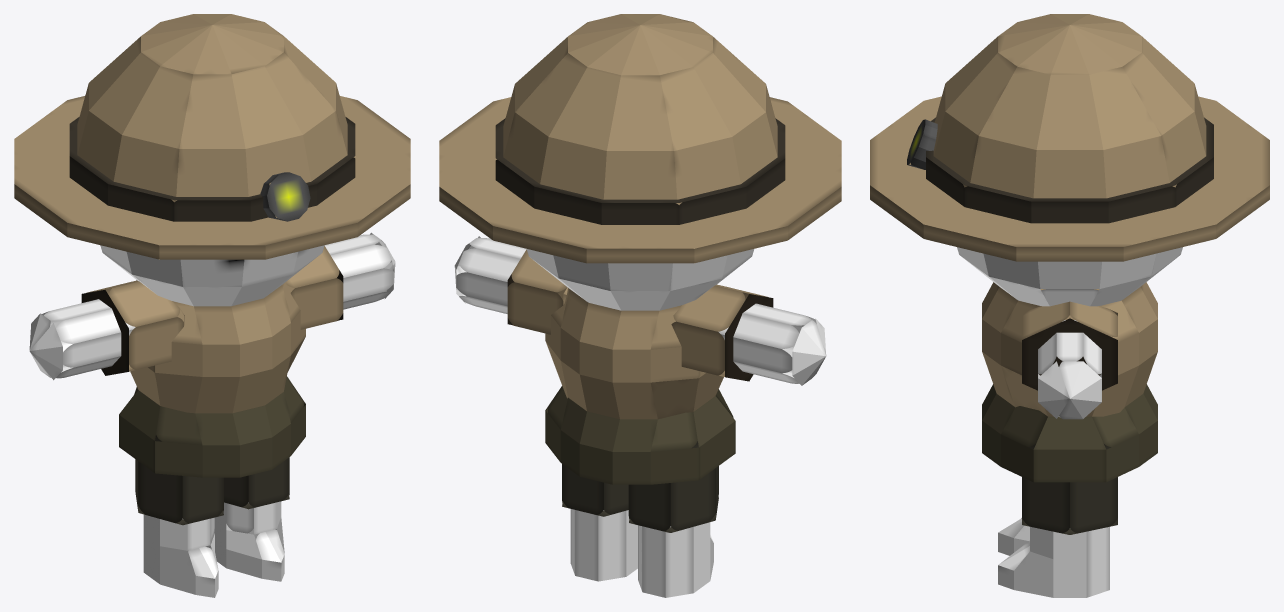
The model's file is Player.fbx.
The picture shows the model from 3 angles, left to right: view 1: azimuth 30°, elevation 25°; view 2: azimuth 150°, elevation 25°; view 3: azimuth 270°, elevation 25°; orthographic projection.
Parts seen in each view (by area): view 1: sphere_1, cylinder, cylinder_3, cylinder_4, sphere, cylinder_1, cylinder_10, cylinder_9, cylinder_6, cylinder_8, cylinder_5, cylinder_12 (+3 smaller); view 2: sphere_1, cylinder, cylinder_3, cylinder_4, cylinder_1, sphere, cylinder_10, cylinder_9, cylinder_6, cylinder_8, cylinder_5, cylinder_12 (+2 smaller); view 3: sphere_1, cylinder, cylinder_4, cylinder_3, cylinder_1, sphere, cylinder_8, cylinder_12, cylinder_7, cylinder_11, cylinder_2, cylinder_6.
Boxes of the visible parts, <box> form: sphere_1: <box>77,14,347,202</box>; cylinder: <box>14,96,410,259</box>; cylinder_3: <box>130,280,305,413</box>; cylinder_4: <box>119,376,305,477</box>; sphere: <box>100,245,324,306</box>; cylinder_1: <box>69,117,355,221</box>; cylinder_10: <box>29,299,135,380</box>; cylinder_9: <box>81,280,184,375</box>; cylinder_6: <box>143,514,218,597</box>; cylinder_8: <box>215,501,284,581</box>; cylinder_5: <box>135,435,223,525</box>; cylinder_12: <box>324,232,395,309</box>; sphere_1: <box>503,14,777,204</box>; cylinder: <box>439,97,841,263</box>; cylinder_3: <box>545,288,723,419</box>; cylinder_4: <box>545,386,735,484</box>; cylinder_1: <box>495,118,785,224</box>; sphere: <box>526,249,754,310</box>; cylinder_10: <box>718,303,826,385</box>; cylinder_9: <box>671,284,773,381</box>; cylinder_6: <box>638,522,713,597</box>; cylinder_8: <box>570,509,637,581</box>; cylinder_5: <box>628,441,718,532</box>; cylinder_12: <box>454,236,526,313</box>; sphere_1: <box>933,14,1206,198</box>; cylinder: <box>870,96,1269,261</box>; cylinder_4: <box>982,384,1157,482</box>; cylinder_3: <box>982,282,1157,416</box>; cylinder_1: <box>926,117,1213,223</box>; sphere: <box>957,247,1182,306</box>; cylinder_8: <box>998,526,1109,597</box>; cylinder_12: <box>1038,320,1101,419</box>; cylinder_7: <box>1022,444,1117,534</box>; cylinder_11: <box>1022,301,1117,390</box>; cylinder_2: <box>907,119,937,169</box>; cylinder_6: <box>998,518,1029,555</box>.
Bounding box in the file's own units: 167 × 234 × 156.
